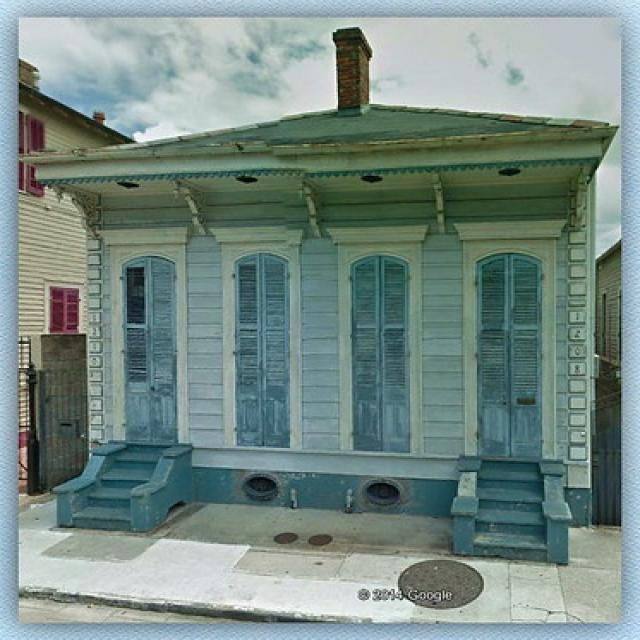Normal_building: (22, 29, 620, 560)
